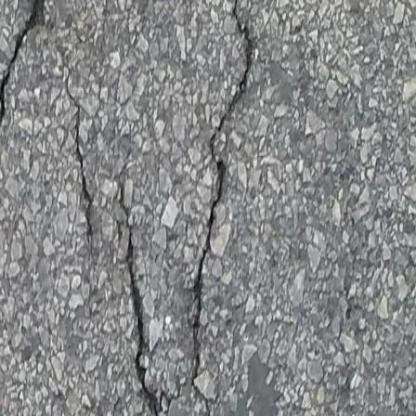Cracks: (182, 0, 264, 411), (93, 124, 187, 416), (0, 0, 66, 136)
